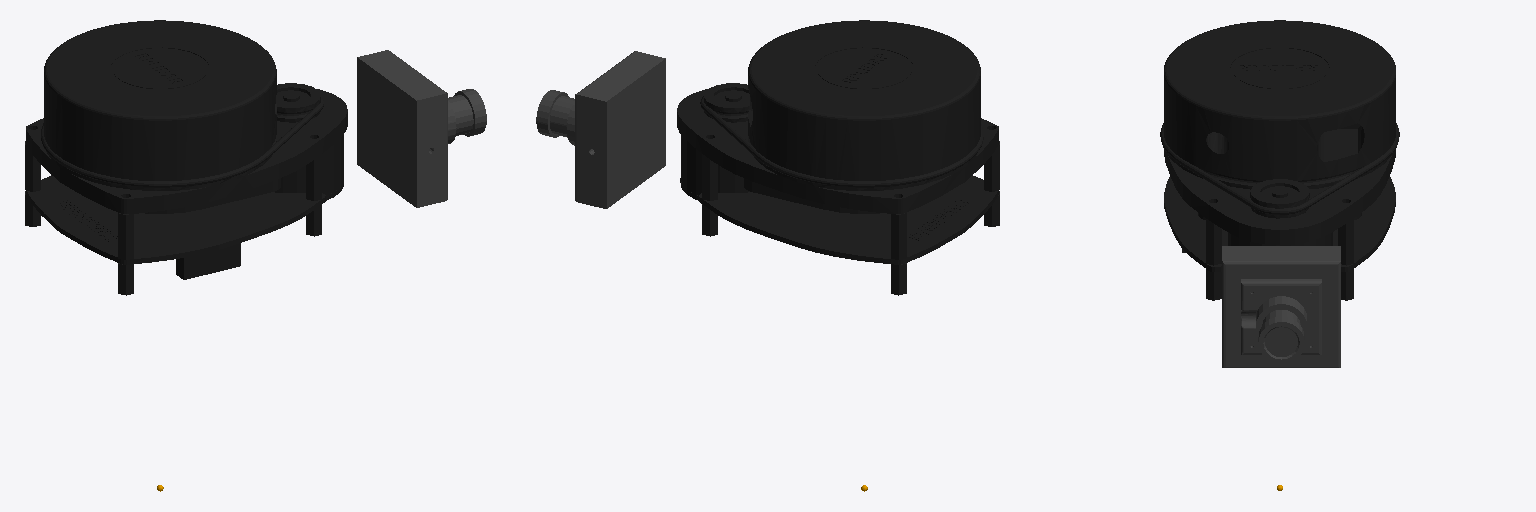
The robot description file, URDF, robot "mycar_description":
<?xml version="1.0" encoding="utf-8"?>
<robot
  name="mycar_description">
  <link name="base_footprint">
    <visual>
      <geometry>
          <sphere radius="0.001"/>
      </geometry>
    </visual>
  </link>
  <link
    name="base_link">
    <inertial>
      <origin
        xyz="0.010215 0.00040151 0.022558"
        rpy="0 0 0" />
      <mass
        value="0.47136" />
      <inertia
        ixx="0.00058978"
        ixy="6.0327E-06"
        ixz="-9.2669E-08"
        iyy="0.00054522"
        iyz="-8.6754E-07"
        izz="0.0010975" />
    </inertial>
    <visual>
      <origin
        xyz="0 0 0"
        rpy="0 0 0" />
      <geometry>
        <mesh
          filename="package://mycar_description/mesh/diff_2w/base_link.STL" />
      </geometry>
      <material
        name="">
        <color
          rgba="1.0 1.0 0.0 1" />
      </material>
    </visual>
    <collision>
      <origin
        xyz="0 0 0"
        rpy="0 0 0" />
      <geometry>
        <mesh
          filename="package://mycar_description/mesh/diff_2w/base_link.STL" />
      </geometry>
    </collision>
  </link>
  <joint name="baselink2basefootprint" type="fixed">
    <parent link="base_footprint"/>
    <child link="base_link"/>
    <origin xyz="0.0 0.0 0.015"/>
  </joint>
  <link
    name="letf_link">
    <inertial>
      <origin
        xyz="5.4391E-11 0.0033316 1.6754E-10"
        rpy="0 0 0" />
      <mass
        value="0.057401" />
      <inertia
        ixx="2.6249E-05"
        ixy="-6.9098E-15"
        ixz="-1.0023E-16"
        iyy="4.6054E-05"
        iyz="-2.085E-14"
        izz="2.6249E-05" />
    </inertial>
    <visual>
      <origin
        xyz="0 0 0"
        rpy="0 0 0" />
      <geometry>
        <mesh
          filename="package://mycar_description/mesh/diff_2w/letf_link.STL" />
      </geometry>
      <material
        name="">
        <color
          rgba="0.1 0.1 0.9 1" />
      </material>
    </visual>
    <collision>
      <origin
        xyz="0 0 0"
        rpy="0 0 0" />
      <geometry>
        <mesh
          filename="package://mycar_description/mesh/diff_2w/letf_link.STL" />
      </geometry>
    </collision>
  </link>
  <joint
    name="left_joint"
    type="continuous">
    <origin
      xyz="0 0.1018 0.016306"
      rpy="0 0 0" />
    <parent
      link="base_link" />
    <child
      link="letf_link" />
    <axis
      xyz="0 1 0" />
  </joint>
  <link
    name="right_link">
    <inertial>
      <origin
        xyz="-6.052E-11 -0.0033316 -1.6407E-10"
        rpy="0 0 0" />
      <mass
        value="0.057401" />
      <inertia
        ixx="2.6249E-05"
        ixy="1.3793E-16"
        ixz="1.2016E-15"
        iyy="4.6054E-05"
        iyz="-2.3189E-14"
        izz="2.6249E-05" />
    </inertial>
    <visual>
      <origin
        xyz="0 0 0"
        rpy="0 0 0" />
      <geometry>
        <mesh
          filename="package://mycar_description/mesh/diff_2w/right_link.STL" />
      </geometry>
      <material
        name="">
        <color
        rgba="0.1 0.1 0.9 1" />
      </material>
    </visual>
    <collision>
      <origin
        xyz="0 0 0"
        rpy="0 0 0" />
      <geometry>
        <mesh
          filename="package://mycar_description/mesh/diff_2w/right_link.STL" />
      </geometry>
    </collision>
  </link>
  <joint
    name="right_joint"
    type="continuous">
    <origin
      xyz="0 -0.1018 0.016306"
      rpy="0 0 0" />
    <parent
      link="base_link" />
    <child
      link="right_link" />
    <axis
      xyz="0 1 0" />
  </joint>
  <link
    name="laser">
    <inertial>
      <origin
        xyz="0.0077193 0.0001201 -0.010702"
        rpy="0 0 0" />
      <mass
        value="0.16249" />
      <inertia
        ixx="7.2364E-05"
        ixy="2.8636E-07"
        ixz="1.5726E-05"
        iyy="0.0001121"
        iyz="-4.0147E-07"
        izz="0.00013003" />
    </inertial>
    <visual>
      <origin
        xyz="0 0 0"
        rpy="0 0 0" />
      <geometry>
        <mesh
          filename="package://mycar_description/mesh/diff_2w/laser_link.STL" />
      </geometry>
      <material
        name="">
        <color
          rgba="0.15 0.15 0.15 1" />
      </material>
    </visual>
    <collision>
      <origin
        xyz="0 0 0"
        rpy="0 0 0" />
      <geometry>
        <mesh
          filename="package://mycar_description/mesh/diff_2w/laser_link.STL" />
      </geometry>
    </collision>
  </link>
  <joint
    name="laser"
    type="fixed">
    <origin
      xyz="-0.0013998 -0.0004849 0.11316"
      rpy="0 0 0" />
    <parent
      link="base_link" />
    <child
      link="laser" />
    <axis
      xyz="0 0 0" />
  </joint>
  <link
    name="camera">
    <inertial>
      <origin
        xyz="-0.014813 2.6086E-05 -1.2986E-09"
        rpy="0 0 0" />
      <mass
        value="0.018279" />
      <inertia
        ixx="3.2476E-06"
        ixy="-2.1188E-09"
        ixz="1.3504E-13"
        iyy="2.4033E-06"
        iyz="-2.3775E-13"
        izz="2.3911E-06" />
    </inertial>
    <visual>
      <origin
        xyz="0 0 0"
        rpy="0 0 0" />
      <geometry>
        <mesh
          filename="package://mycar_description/mesh/diff_2w/camera_link.STL" />
      </geometry>
      <material
        name="">
        <color
          rgba="0.3 0.3 0.3 1" />
      </material>
    </visual>
    <collision>
      <origin
        xyz="0 0 0"
        rpy="0 0 0" />
      <geometry>
        <mesh
          filename="package://mycar_description/mesh/diff_2w/camera_link.STL" />
      </geometry>
    </collision>
  </link>
  <joint
    name="camrea"
    type="fixed">
    <origin
      xyz="0.10764 0.00047 0.0843"
      rpy="0 0 0" />
    <parent
      link="base_link" />
    <child
      link="camera" />
    <axis
      xyz="0 0 0" />
  </joint>
</robot>

--- What the picture shows (computed from the rendered views, not written in the file) ---
3 views of the same robot in one strip: view 1: azimuth 30°, elevation 25°; view 2: azimuth 150°, elevation 25°; view 3: azimuth 270°, elevation 25° (orthographic).
Robot: mycar_description — 6 links, 5 joints (2 continuous, 3 fixed); root link base_footprint; default pose: every joint at zero.
Links seen in each view (by area): view 1: laser, camera; view 2: laser, camera; view 3: laser, camera.
Link boxes in pixels (box(x1,y1,x2,y2)): laser: box(25, 20, 347, 295); camera: box(357, 50, 486, 207); laser: box(677, 20, 999, 295); camera: box(536, 51, 665, 208); laser: box(1160, 20, 1399, 300); camera: box(1222, 246, 1340, 367).
Size in the robot's own frame: 0.1456 by 0.0719 by 0.1402 metres.
Meshes: 5 distinct files referenced, 2 mesh visuals loaded (2 binary STL); not drawn: 3 (reference not matched to a file when rendering).